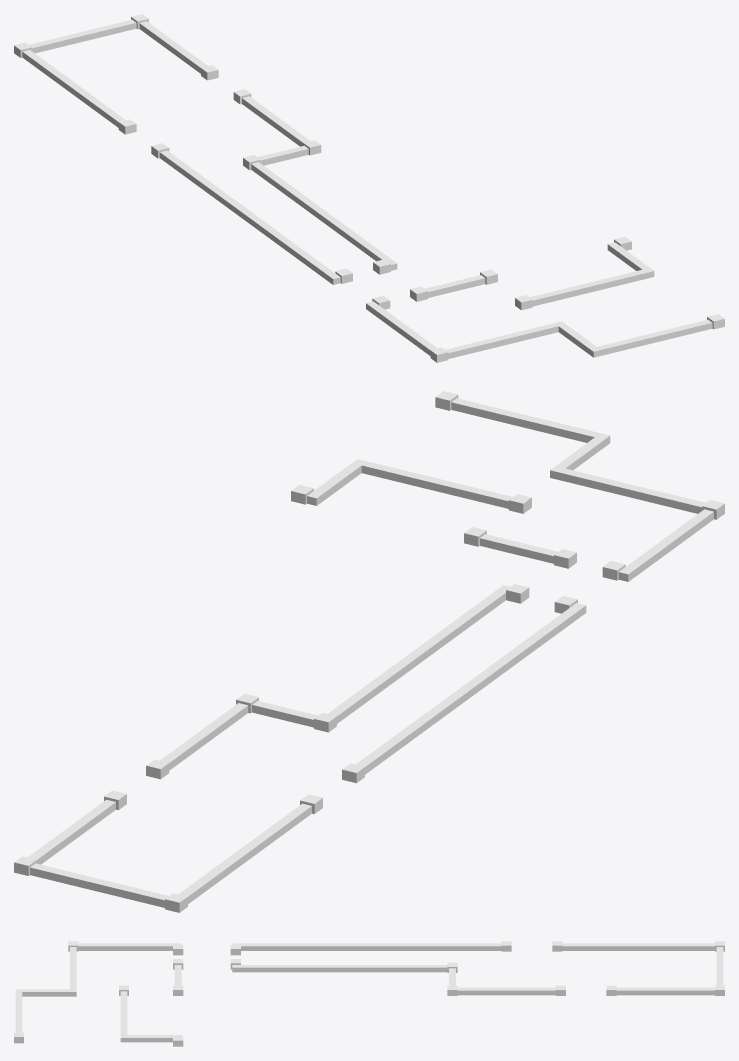
The model's file is Map_Barrier02.fbx.
The picture shows the model from 3 angles, top to bottom: view 1: azimuth 30°, elevation 25°; view 2: azimuth 150°, elevation 25°; view 3: azimuth 270°, elevation 25°; orthographic projection. The views are drawn at different scales.
Visible parts, largest first — view 1: Barrier; view 2: Barrier; view 3: Barrier.
Boxes of the visible parts, bbox=[...] form: Barrier: bbox=[14, 14, 724, 362]; Barrier: bbox=[14, 391, 724, 912]; Barrier: bbox=[14, 941, 724, 1046].
Bounding box in the file's own units: 34.75 × 1 × 105.
